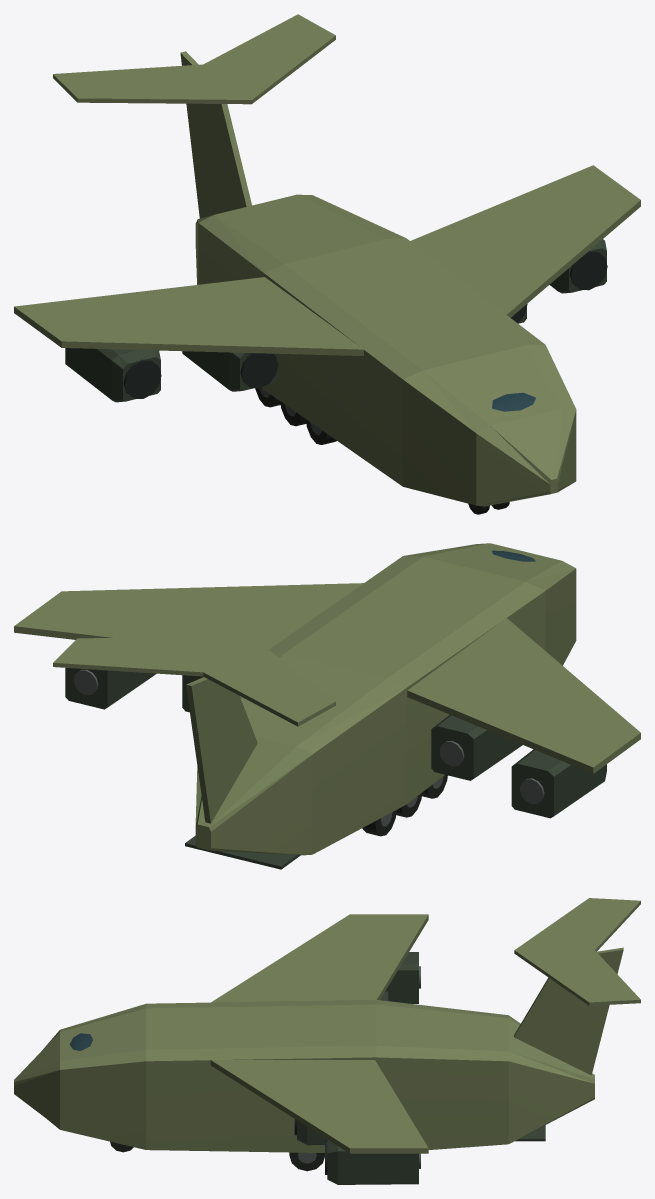
File: cargoPlane.glb
3 renders of one model, top to bottom at view 1: azimuth 30°, elevation 25°; view 2: azimuth 150°, elevation 25°; view 3: azimuth 270°, elevation 25°, orthographic. The views are drawn at different scales.
Visible parts, largest first — view 1: armor, equipment (×4); view 2: armor, equipment (×5); view 3: armor, equipment (×4).
Boxes of the visible parts, x1,y1,x2,y2 form: armor: (14, 14, 640, 506); equipment (×4): (65, 239, 607, 514); armor: (14, 543, 640, 855); equipment (×5): (65, 668, 606, 869); armor: (14, 898, 640, 1153); equipment (×4): (110, 952, 420, 1184).
Bounding box in the file's own units: 26 × 10.2 × 29.43.
